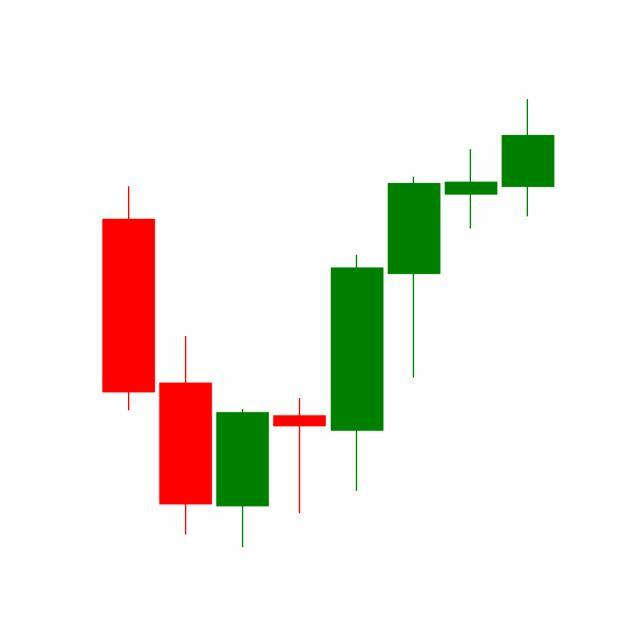Advance Block: (328, 146, 500, 496)
